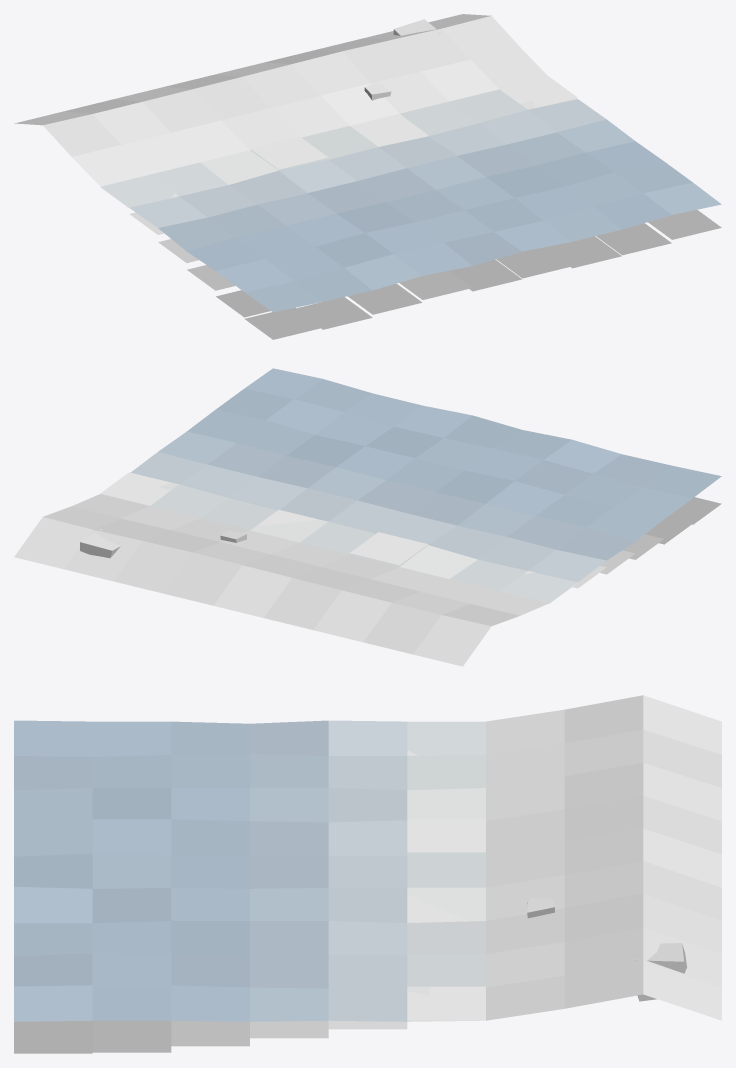
The model's file is water_side_lowpoly.glb.
3 views of the same model, one above another, from view 1: azimuth 30°, elevation 25°; view 2: azimuth 150°, elevation 25°; view 3: azimuth 270°, elevation 25° (orthographic). The views are drawn at different scales.
Parts seen in each view (by area): view 1: WaterSide; view 2: WaterSide; view 3: WaterSide.
Boxes of the visible parts, <box> form: WaterSide: <box>14,14,721,339</box>; WaterSide: <box>14,368,721,666</box>; WaterSide: <box>14,695,721,1053</box>.
Size of the model in its own units: 1 by 0.1045 by 1.
